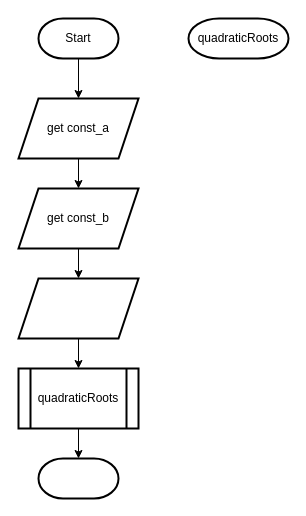
Image size: 306x516. Some labels were removed from this diagram. Each missing label, with the centre of its shape:
"get const_c" goes at (78,308).
"Stop" goes at (78,478).
